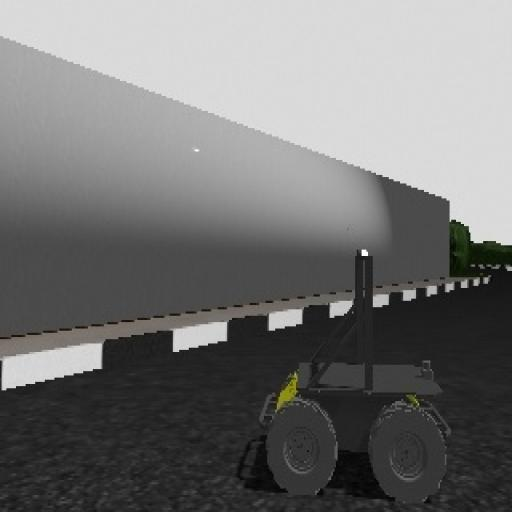huskya200: (247, 237, 456, 508)
